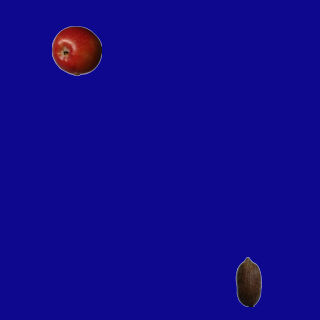Apple Braeburn: (51, 25, 101, 75)
Nut Pecan: (223, 256, 273, 306)
